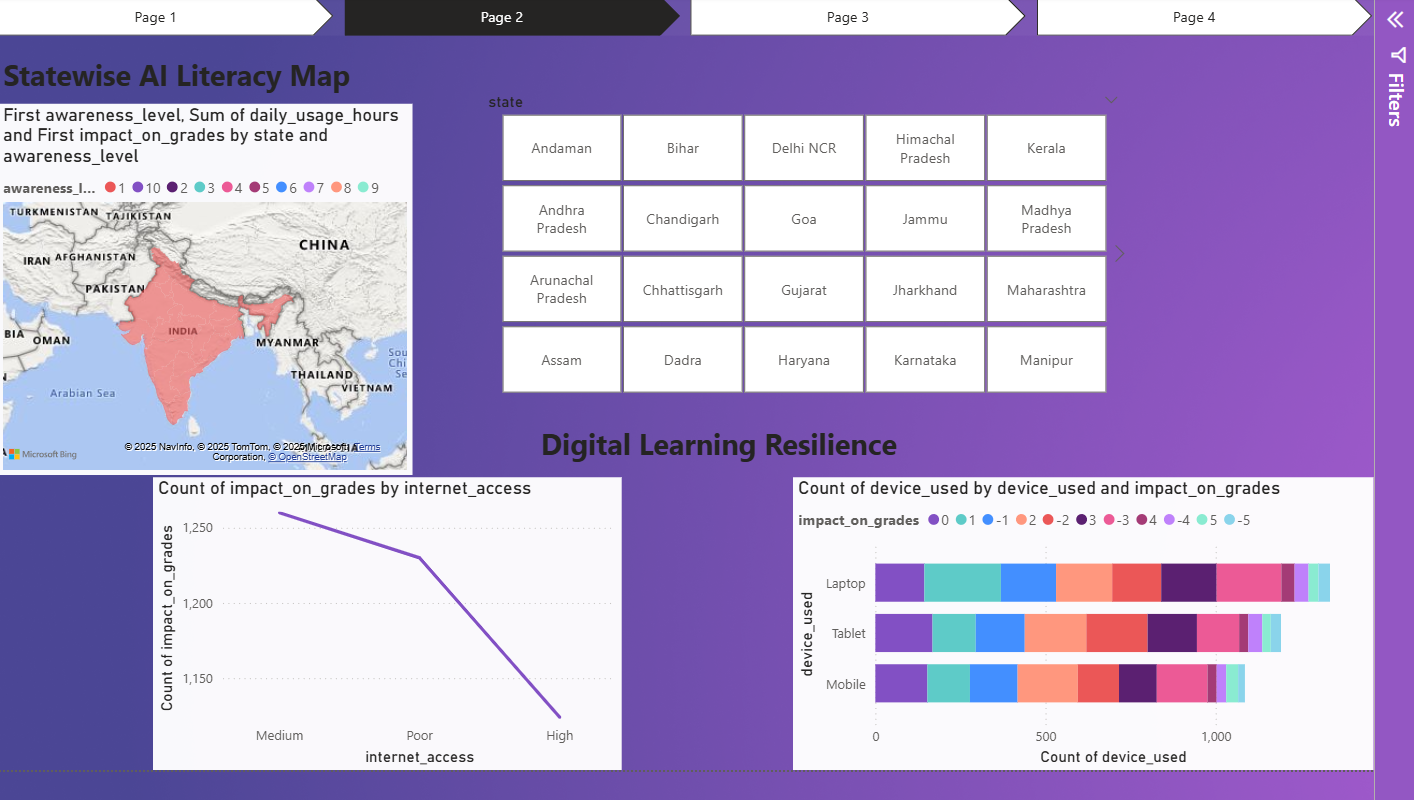

The page's visual inventory and layout, read from the dashboard file:
{"tool":"powerbi","page":{"name":"Page 2","canvas":[1280,720],"ordinal":1},"visuals":[{"type":"filledMap","fields":{"Category":["Data.state"],"Series":["Data.awareness_level"]},"box":[0,100,385.7,345.7],"z":0},{"type":"slicer","fields":{"Values":["Data.state"]},"box":[443,84.9,611.6,290.7],"z":1000},{"type":"textbox","box":[0,50,385.7,47.1],"z":2000},{"type":"lineChart","fields":{"Y":["CountNonNull(Data.impact_on_grades)"],"Category":["Data.internet_access"]},"box":[144.3,447.1,435.7,272.9],"z":3000},{"type":"barChart","fields":{"Series":["Data.impact_on_grades"],"Y":["CountNonNull(Data.device_used)"],"Category":["Data.device_used"]},"box":[740,447.1,540,272.9],"z":4000},{"type":"textbox","box":[500,392.9,417.1,52.9],"z":5000},{"type":"pageNavigator","box":[0,0,1280,37.1],"z":6000}]}

Visuals, with their boxes on the page's 1280x720 design canvas (x1, y1, x2, y2). These are canvas units, not pixel positions in the 1414x800 screenshot, which may show the page scaled, cropped or inside an application window:
filledMap - Data.state x Data.awareness_level: left=0, top=100, right=386, bottom=446
slicer - Data.state: left=443, top=85, right=1055, bottom=376
textbox: left=0, top=50, right=386, bottom=97
lineChart - CountNonNull(Data.impact_on_grades) x Data.internet_access: left=144, top=447, right=580, bottom=720
barChart - Data.impact_on_grades x CountNonNull(Data.device_used): left=740, top=447, right=1280, bottom=720
textbox: left=500, top=393, right=917, bottom=446
pageNavigator: left=0, top=0, right=1280, bottom=37
